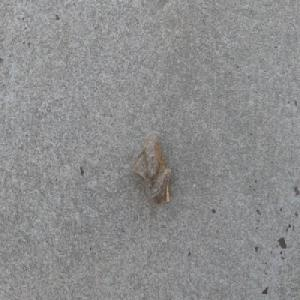Rock: (129, 132, 171, 204)
